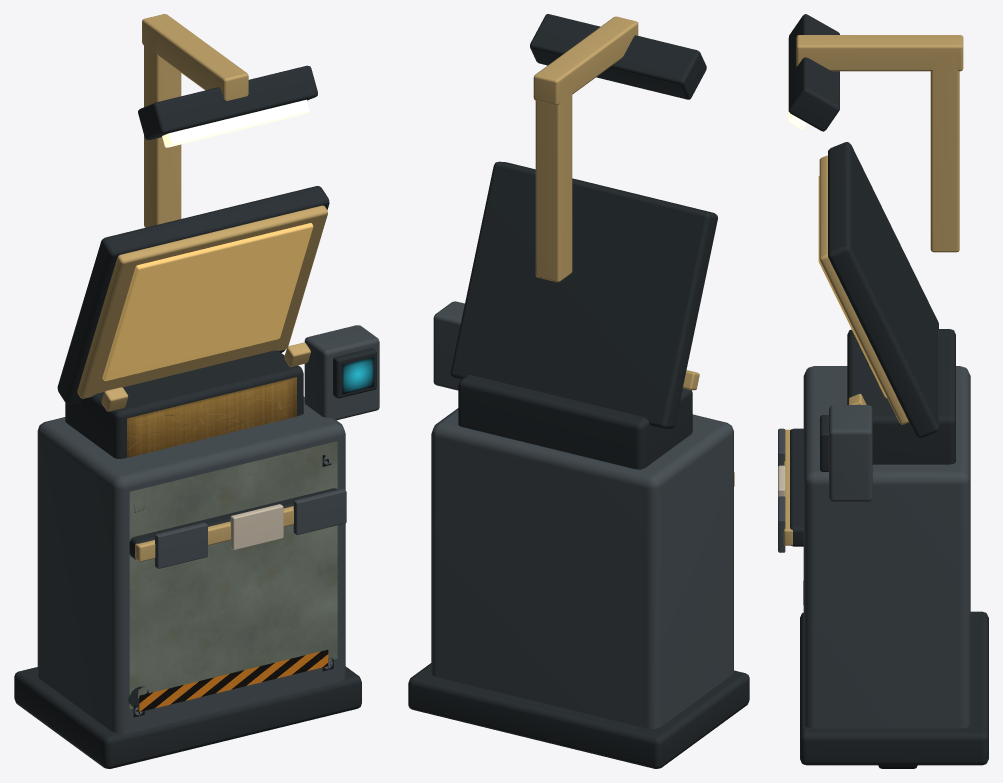
The model's file is hp_puzzle_console_gallery_reading.glb.
3 views of the same model, side by side, from view 1: azimuth 30°, elevation 25°; view 2: azimuth 150°, elevation 25°; view 3: azimuth 270°, elevation 25° (orthographic).
Visible parts, largest first — view 1: gallery_pedestal, gallery_pedestal_surface, gallery_reading_plate, gallery_base_foot, gallery_frame_brass, gallery_neck, gallery_frame_back, gallery_neck_surface, gallery_lamp_head, gallery_lamp_post, gallery_terminal_box, gallery_lamp_arm (+9 smaller); view 2: gallery_pedestal, gallery_frame_back, gallery_base_foot, gallery_neck, gallery_lamp_post, gallery_lamp_head, gallery_lamp_arm, gallery_terminal_box; view 3: gallery_pedestal, gallery_frame_back, gallery_base_foot, gallery_neck, gallery_lamp_post, gallery_lamp_arm, gallery_terminal_box, gallery_lamp_head, gallery_frame_brass, gallery_tray, gallery_tray_lip, gallery_terminal_bezel (+2 smaller).
Boxes of the visible parts, x1,y1,x2,y2 form: gallery_pedestal: [37, 396, 345, 734]; gallery_pedestal_surface: [129, 441, 337, 709]; gallery_reading_plate: [102, 223, 313, 381]; gallery_base_foot: [14, 666, 361, 768]; gallery_frame_brass: [77, 205, 327, 398]; gallery_neck: [65, 350, 303, 458]; gallery_frame_back: [57, 186, 329, 404]; gallery_neck_surface: [127, 377, 296, 457]; gallery_lamp_head: [138, 65, 317, 139]; gallery_lamp_post: [144, 27, 181, 227]; gallery_terminal_box: [304, 325, 379, 420]; gallery_lamp_arm: [142, 14, 248, 100]; gallery_pedestal: [431, 408, 733, 728]; gallery_frame_back: [450, 161, 717, 429]; gallery_base_foot: [408, 663, 749, 768]; gallery_neck: [458, 375, 692, 469]; gallery_lamp_post: [535, 76, 572, 282]; gallery_lamp_head: [530, 14, 706, 99]; gallery_lamp_arm: [533, 16, 638, 105]; gallery_terminal_box: [433, 301, 464, 390]; gallery_pedestal: [803, 366, 970, 728]; gallery_frame_back: [828, 142, 938, 438]; gallery_base_foot: [800, 611, 988, 765]; gallery_neck: [847, 329, 955, 464]; gallery_lamp_post: [930, 52, 959, 252]; gallery_lamp_arm: [796, 35, 963, 71]; gallery_terminal_box: [829, 405, 872, 501]; gallery_lamp_head: [788, 14, 839, 131]; gallery_frame_brass: [819, 155, 908, 424]; gallery_tray: [790, 428, 803, 546]; gallery_tray_lip: [783, 429, 792, 545]; gallery_terminal_bezel: [820, 415, 828, 471].
Size of the model in its own units: 0.92 by 2.04 by 0.58.
Materials: 11 (4 with a texture image).
